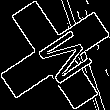M_SW: (21, 22, 89, 88)
